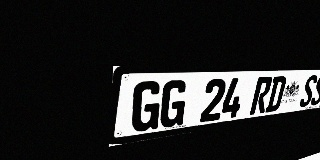2: (200, 78, 227, 122)
4: (220, 78, 246, 119)
D: (265, 76, 288, 113)
G: (130, 81, 163, 133), (158, 80, 189, 129)
R: (249, 76, 273, 115)
S: (298, 75, 319, 108), (310, 74, 320, 106)
